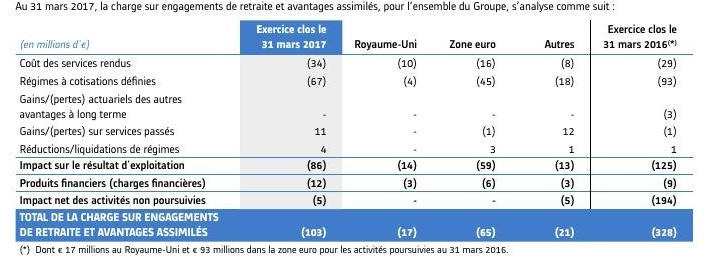table: (0, 0, 715, 265)
